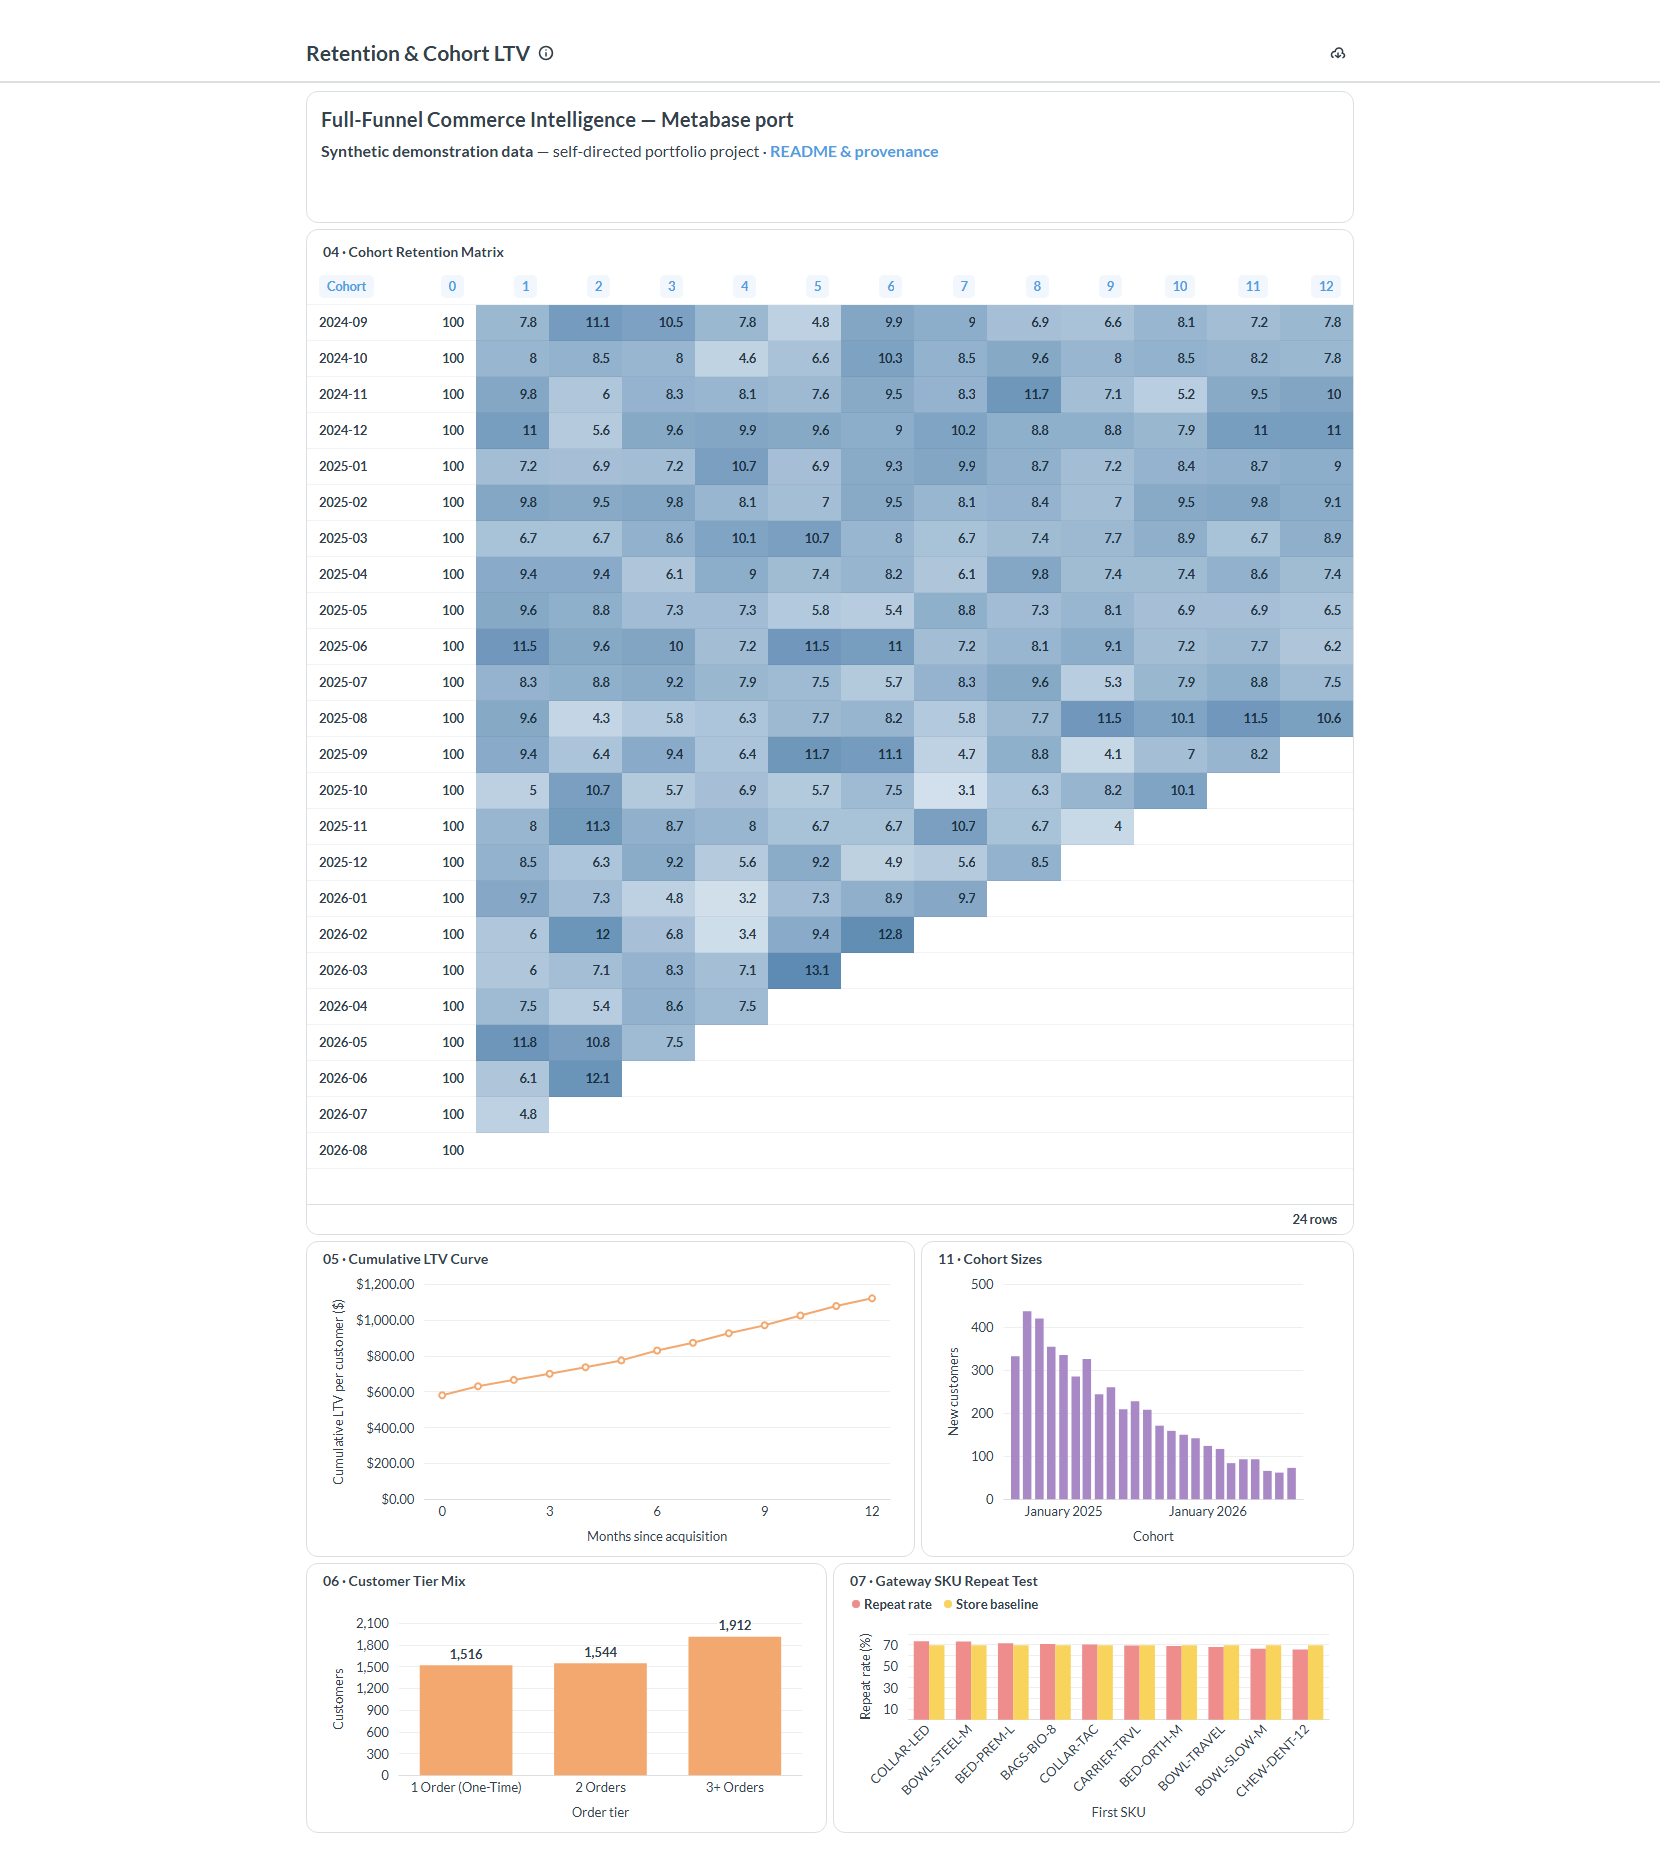

This screenshot's page, from the dashboard's own definition file:
{"tool":"powerbi","page":{"name":"Retention & Cohort LTV","canvas":[1920,1080],"ordinal":1},"visuals":[{"type":"slicer","fields":{"Values":["vw_customers.first_order_traffic_type"]},"box":[1648,0,176,96],"z":0},{"type":"cardVisual","fields":{"Data":["Retention & Cohort Measures.Total Customers"]},"box":[46.4,149.2,224,144],"z":1000},{"type":"cardVisual","fields":{"Data":["Retention & Cohort Measures.12-Month LTV"]},"box":[1327.7,149.2,224,144],"z":2000},{"type":"cardVisual","fields":{"Data":["Retention & Cohort Measures.Repeat Purchase Rate"]},"box":[366.7,149.2,224,144],"z":3000},{"type":"cardVisual","fields":{"Data":["Retention & Cohort Measures.Repeat Customer Revenue Share"]},"box":[687.1,149.2,224,144],"z":4000},{"type":"cardVisual","fields":{"Data":["Retention & Cohort Measures.LTV per Customer"]},"box":[1007.4,149.2,224,144],"z":5000},{"type":"cardVisual","fields":{"Data":["Retention & Cohort Measures.Second-to-Third Conversion"]},"box":[1648,149.2,224,144],"z":6000},{"type":"textbox","box":[32,16,848,64],"z":7000},{"type":"textbox","box":[32,48,784,80],"z":8000},{"type":"pivotTable","title":"Monthly Customer Retention by Acquisition Cohort (Months 0–12)","fields":{"Columns":["vw_orders_enriched.cohort_month_index"],"Rows":["vw_customers.cohort_month"],"Values":["Retention & Cohort Measures.Cohort Retention %"]},"box":[48,336,816,720],"z":9000},{"type":"lineChart","title":"Cumulative Net LTV Curve (Mature Cohorts: Acquired ≤ Aug 2025)","fields":{"Category":["vw_orders_enriched.cohort_month_index"],"Y":["Retention & Cohort Measures.Cumulative LTV"]},"box":[944,336,912,304],"z":10000},{"type":"clusteredBarChart","title":"Customer Tier Mix","fields":{"Category":["vw_customers.customer_order_tier"],"Y":["Retention & Cohort Measures.Total Customers"]},"box":[944,664,480,416],"z":11000},{"type":"clusteredBarChart","title":"Gateway SKU Repeat Rate","fields":{"Category":["vw_customers.first_sku"],"Y":["Retention & Cohort Measures.Gateway SKU Repeat Rate"]},"box":[1440,664,480,416],"z":12000}]}

Visuals, with their boxes on the page's 1920x1080 design canvas (x1, y1, x2, y2). These are canvas units, not pixel positions in the 1660x1872 screenshot, which may show the page scaled, cropped or inside an application window:
slicer - vw_customers.first_order_traffic_type: (1648,0,1824,96)
cardVisual - Retention & Cohort Measures.Total Customers: (46,149,270,293)
cardVisual - Retention & Cohort Measures.12-Month LTV: (1328,149,1552,293)
cardVisual - Retention & Cohort Measures.Repeat Purchase Rate: (367,149,591,293)
cardVisual - Retention & Cohort Measures.Repeat Customer Revenue Share: (687,149,911,293)
cardVisual - Retention & Cohort Measures.LTV per Customer: (1007,149,1231,293)
cardVisual - Retention & Cohort Measures.Second-to-Third Conversion: (1648,149,1872,293)
textbox: (32,16,880,80)
textbox: (32,48,816,128)
"Monthly Customer Retention by Acquisition Cohort (Months 0–12)" pivotTable: (48,336,864,1056)
"Cumulative Net LTV Curve (Mature Cohorts: Acquired ≤ Aug 2025)" lineChart: (944,336,1856,640)
"Customer Tier Mix" clusteredBarChart: (944,664,1424,1080)
"Gateway SKU Repeat Rate" clusteredBarChart: (1440,664,1920,1080)
